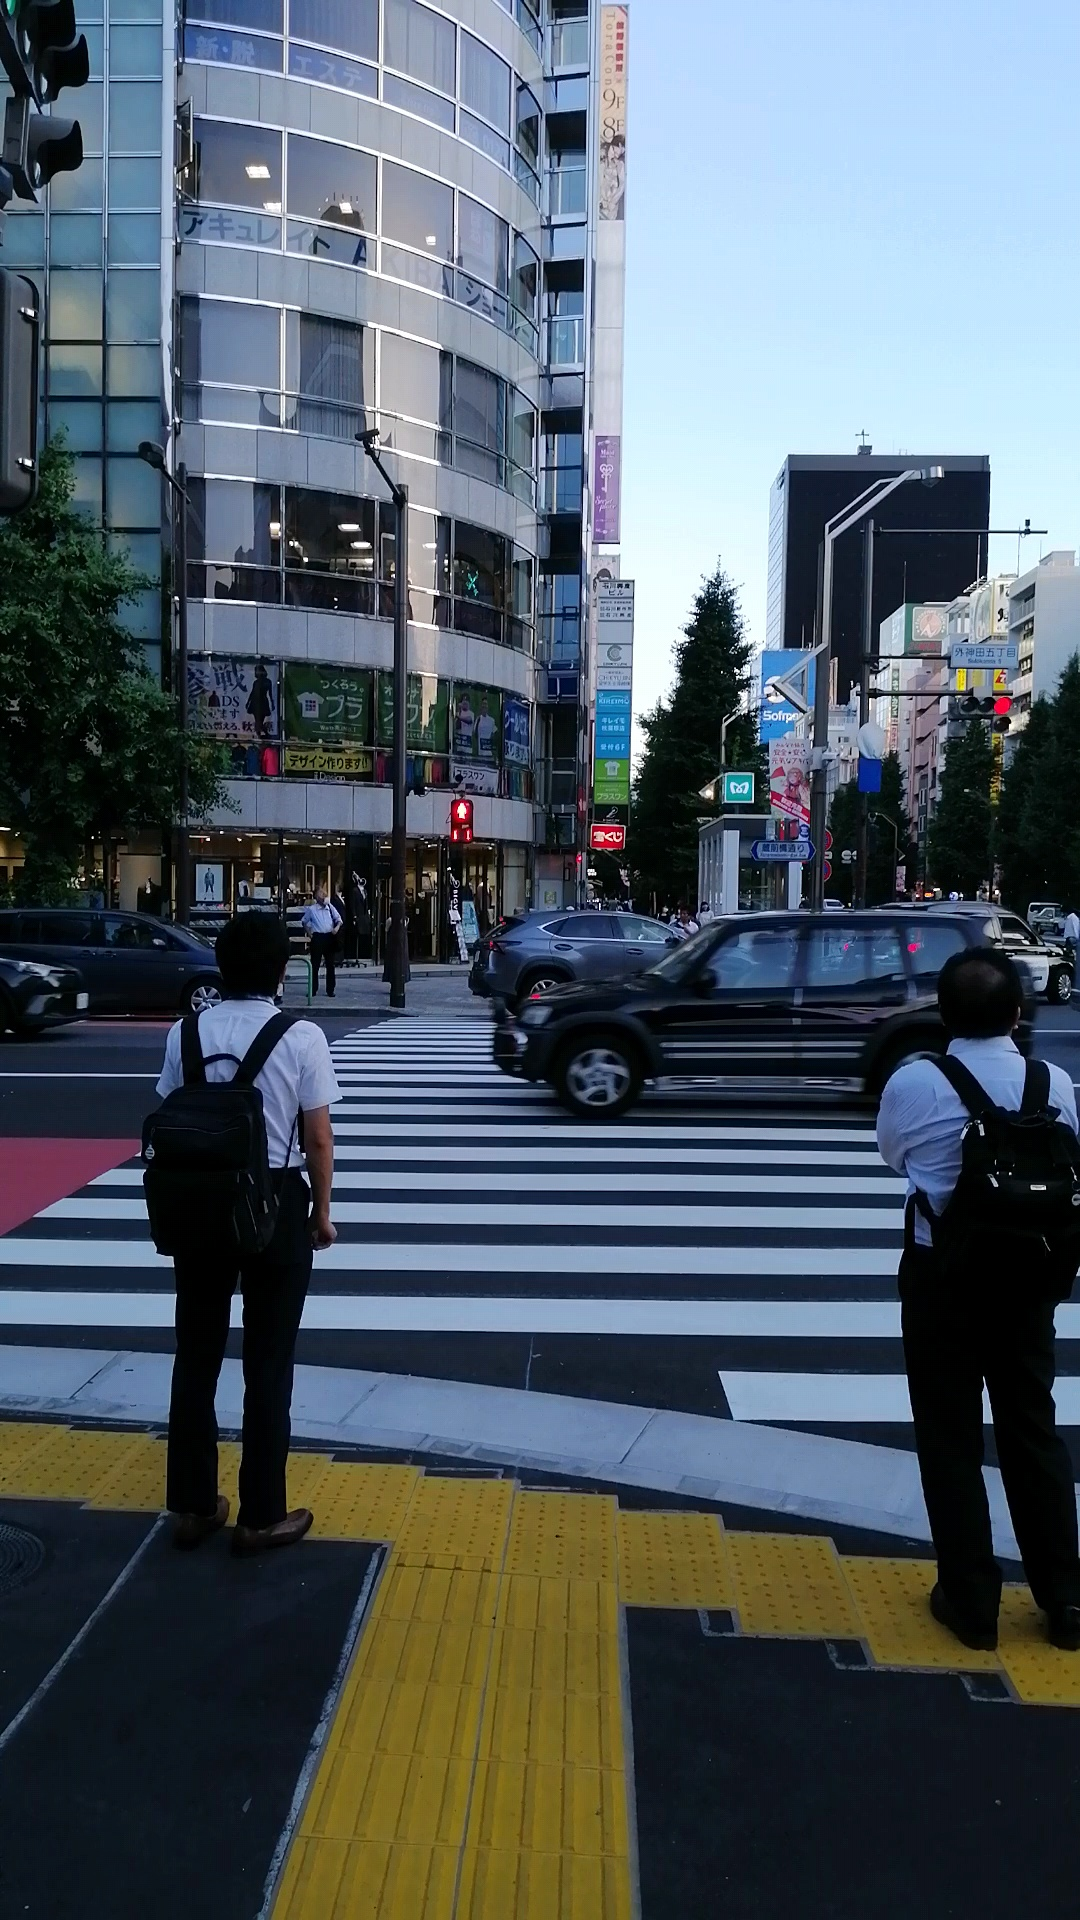red: (448, 796, 473, 847)
